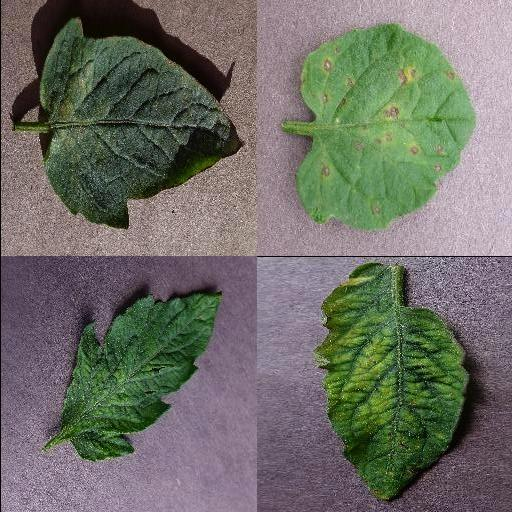Mosaic Virus: (313, 261, 471, 501), (59, 291, 223, 464)
Septoria: (295, 24, 477, 230)
Spider Mites: (38, 19, 244, 231)
